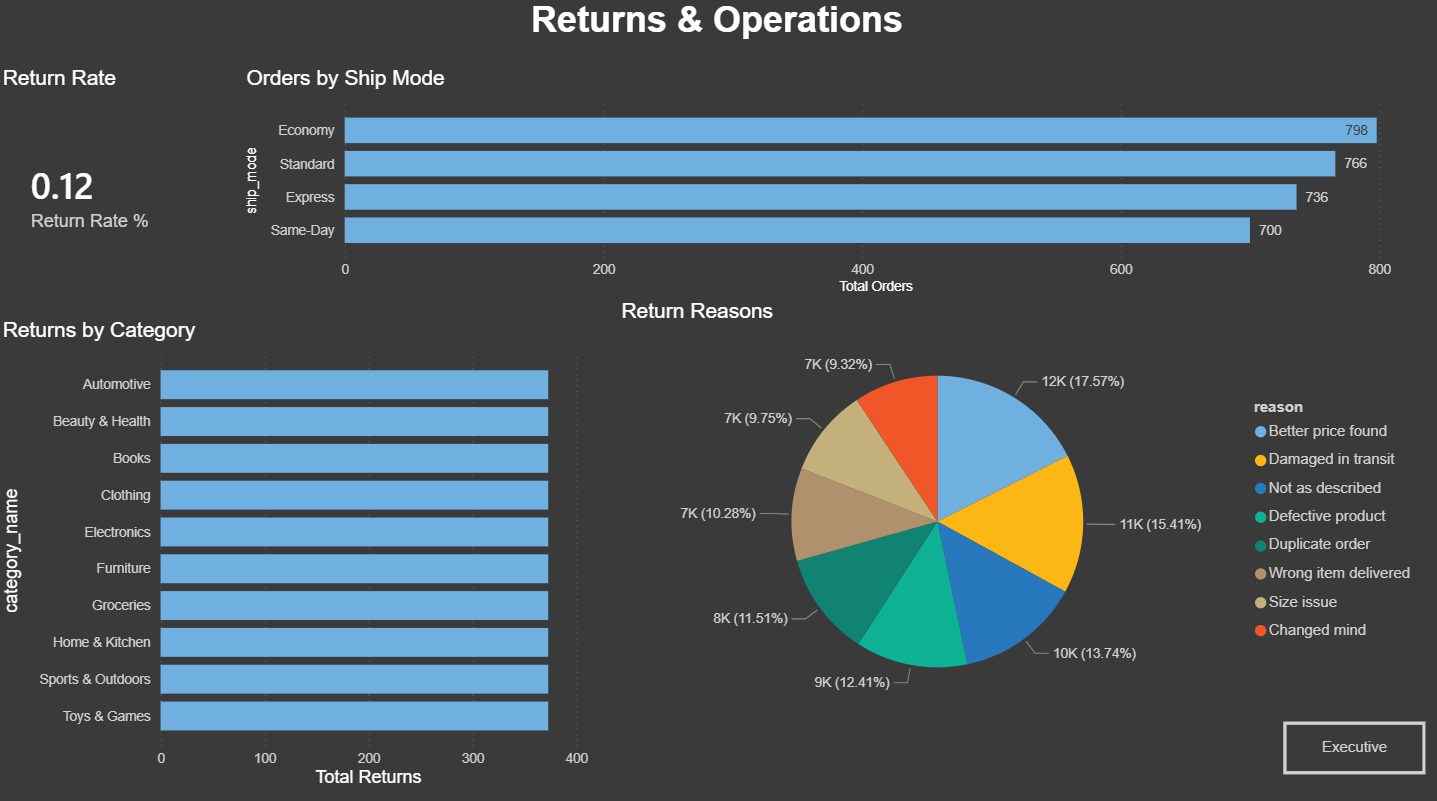

The page's visual inventory and layout, read from the dashboard file:
{"tool":"powerbi","page":{"name":"Returns & Operations","canvas":[1280,720],"ordinal":3},"visuals":[{"type":"cardVisual","title":"Return Rate","fields":{"Data":["_Measures.Return Rate %"]},"box":[0,63.9,197.9,207.5],"z":0},{"type":"clusteredBarChart","title":"Returns by Category","fields":{"Category":["retail_db vw_sales_fact.category_name"],"Y":["_Measures.Total Returns"]},"box":[0,287.8,531.1,422.2],"z":1000},{"type":"pieChart","title":"Return Reasons","fields":{"Category":["retail_db returns.reason"],"Y":["Sum(retail_db returns.return_id)"]},"box":[550.1,271.4,720.2,375.2],"z":2000},{"type":"clusteredBarChart","title":"Orders by Ship Mode","fields":{"Category":["retail_db vw_sales_fact.ship_mode"],"Y":["_Measures.Total Orders"]},"box":[217.2,63.9,1053.2,207.5],"z":4000},{"type":"textbox","box":[0,0,1280,55.5],"z":5000},{"type":"actionButton","box":[1143.7,646.7,126.7,47.1],"z":5001}]}

Visuals, with their boxes in screenshot pixels (x1, y1, x2, y2), scaled from the page's 1280x720 canvas onto the 1437x801 screenshot:
"Return Rate" cardVisual: 0 71 222 302
"Returns by Category" clusteredBarChart: 0 320 596 790
"Return Reasons" pieChart: 618 302 1426 719
"Orders by Ship Mode" clusteredBarChart: 244 71 1426 302
textbox: 0 0 1436 62
actionButton: 1284 719 1426 772
